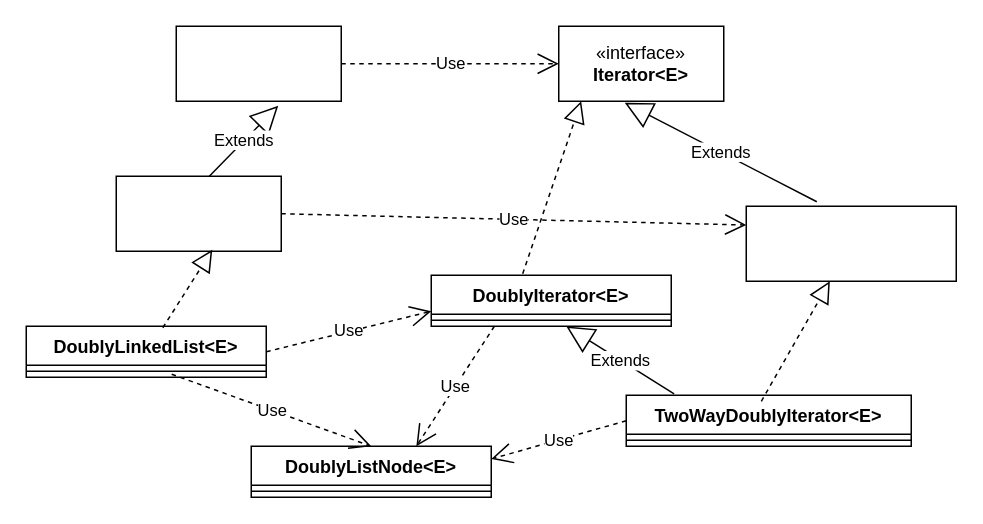
Image size: 983x524. Some labels were removed from this diagram. The shapes that lost their labels are listed below. From the top down, each one's centre as x and y in pixels, then its label:
point (258, 63): «interface» List<E>
point (198, 213): «interface» TwoWayList<E>
point (850, 243): «interface» TwoWayIterator<E>
